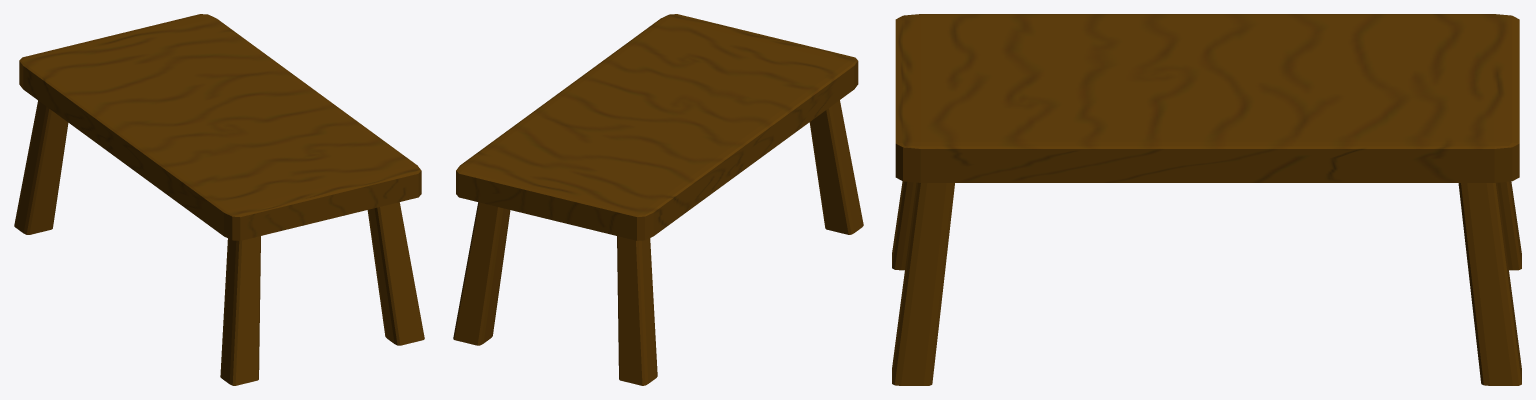
File: mesa.fbx
3 views of the same model, side by side, from view 1: azimuth 30°, elevation 25°; view 2: azimuth 150°, elevation 25°; view 3: azimuth 270°, elevation 25° (orthographic). The views are drawn at different scales.
Parts seen in each view (by area): view 1: Cube; view 2: Cube; view 3: Cube.
Part boxes in pixels (x1,y1,x2,y2): Cube: (14,14,424,385); Cube: (453,14,863,385); Cube: (892,14,1521,385).
Size of the model in its own units: 413 by 340 by 809.
Materials: 1 (1 with a texture image).
